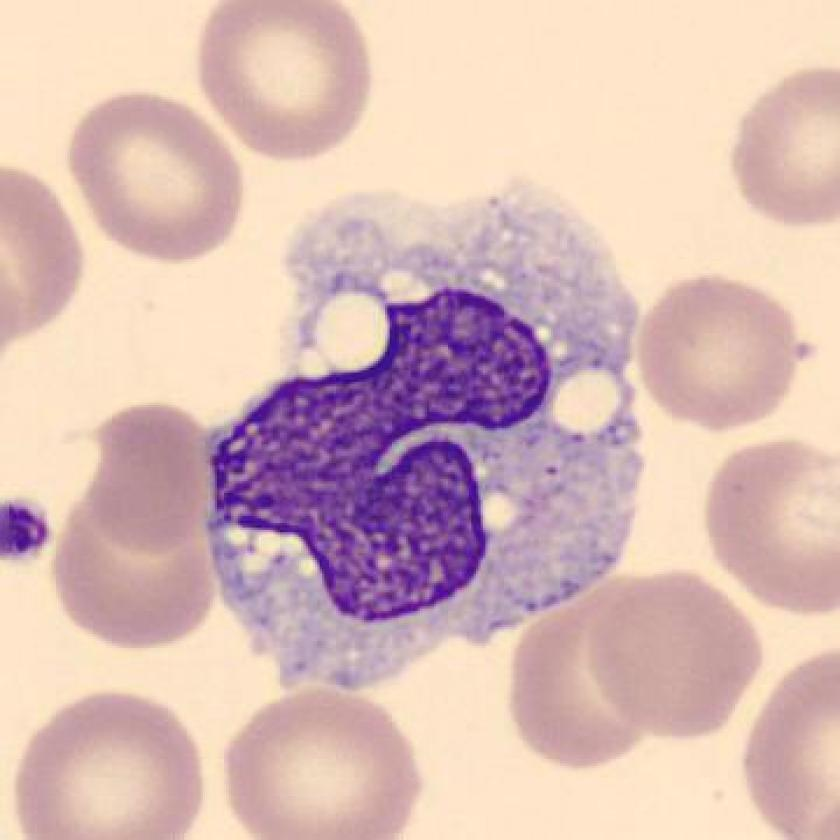monocyte: (190, 168, 668, 709)
